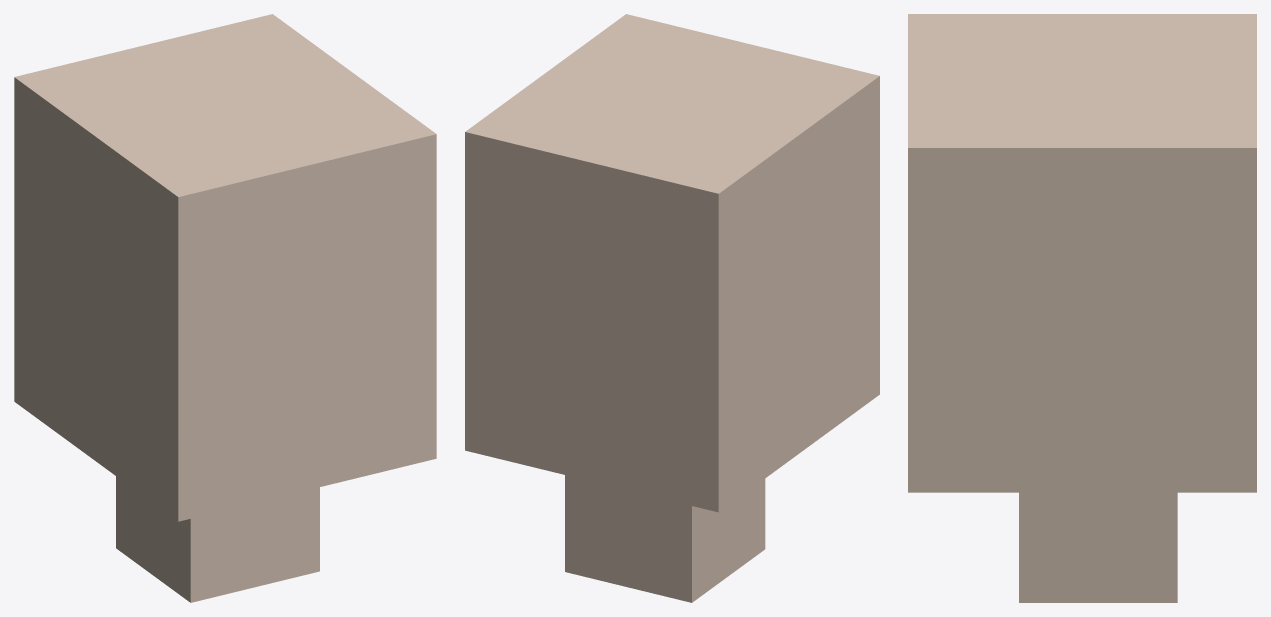
The model's file is head.glb.
3 views of the same model, side by side, from view 1: azimuth 30°, elevation 25°; view 2: azimuth 150°, elevation 25°; view 3: azimuth 270°, elevation 25° (orthographic). The views are drawn at different scales.
Visible parts, largest first — view 1: head_mesh; view 2: head_mesh; view 3: head_mesh.
Boxes of the visible parts, x1,y1,x2,y2 form: head_mesh: [14, 14, 436, 602]; head_mesh: [465, 14, 879, 602]; head_mesh: [908, 14, 1256, 602].
Size of the model in its own units: 0.2 by 0.34 by 0.22.
